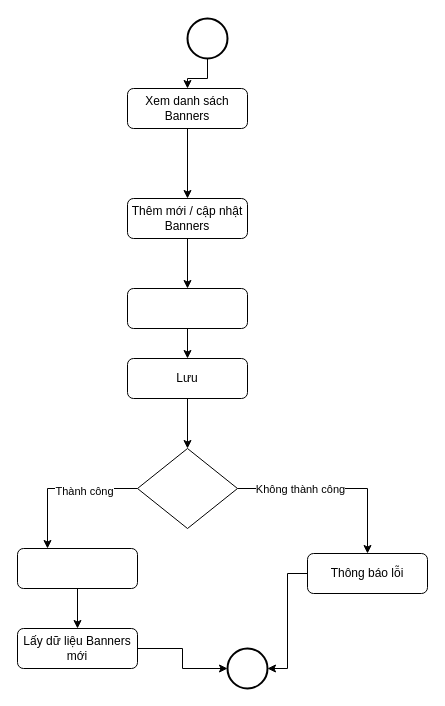
The diagram is 445 pixels wide and 706 high, and some of its shapes have lost their labels. The centre of each missing label's shape, as x and y in pixels:
Nhập dữ liệu: the point at 187,308
Thông báo thành công: the point at 77,568
